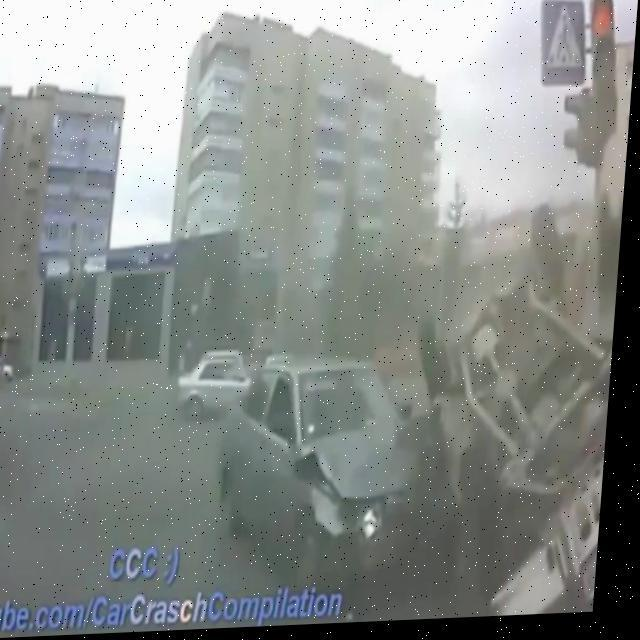multiple_accident: (197, 253, 640, 604)
